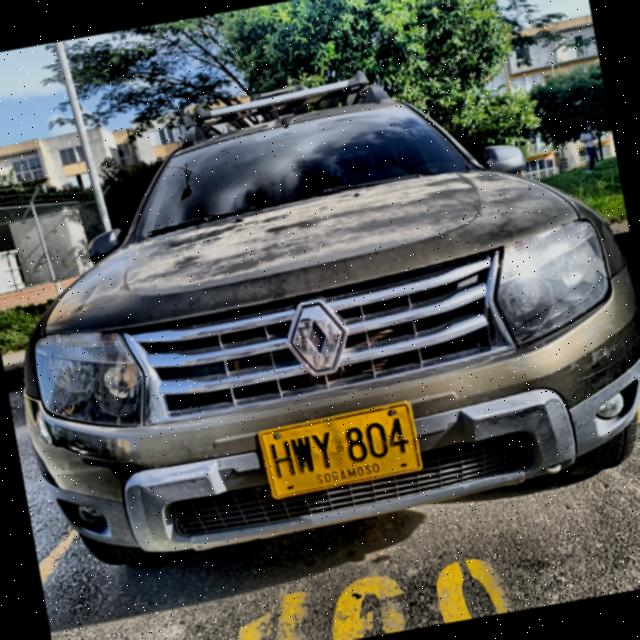plate: (260, 402, 419, 497)
